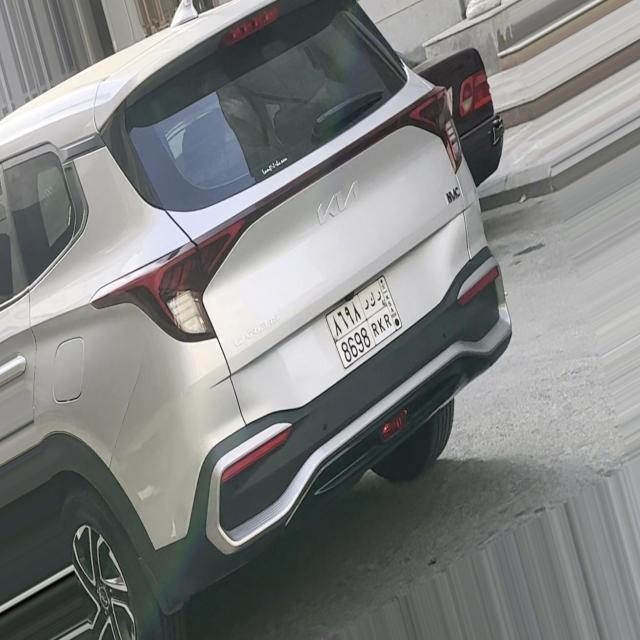Car-plate: (320, 260, 419, 379)
